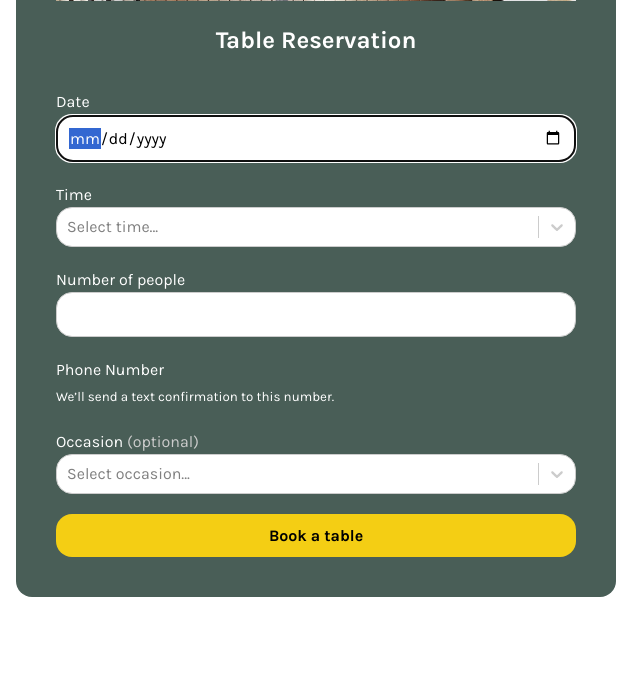
Test: ReservationForm Component › shows validation errors when submitted empty
(page scrolled)
Click the button "Book a table" at (316, 535), box [56, 514, 576, 557]
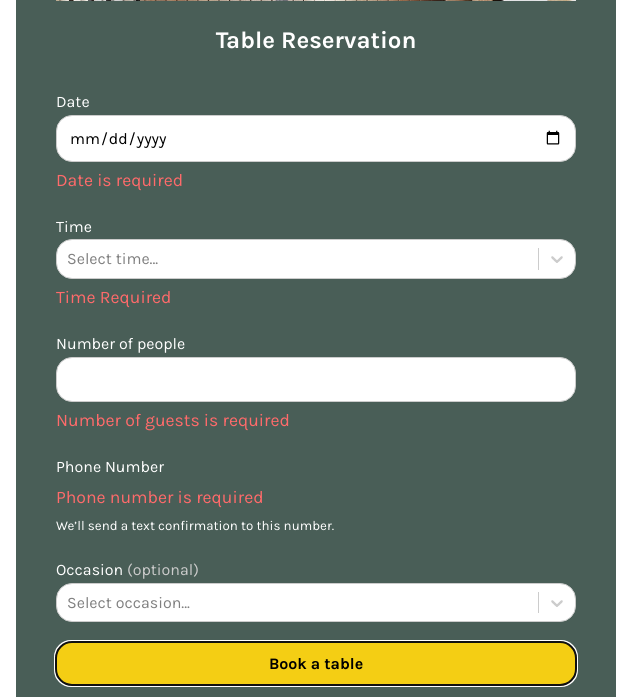
expect the text "Date is required" is shown: met, box [56, 170, 183, 190]
expect the text "Time Required" is shown: met, box [56, 287, 172, 307]
expect the text "Number of guests is required" is shown: met, box [56, 410, 290, 430]
